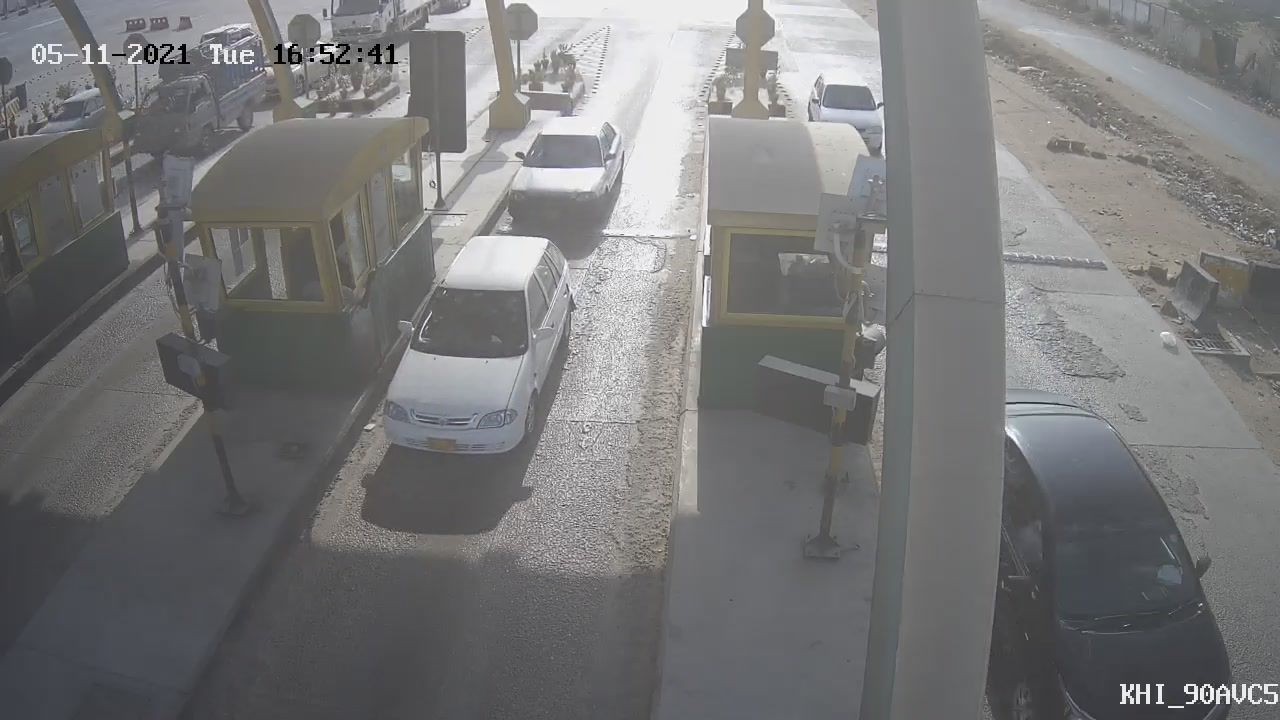F1: (356, 213, 594, 474), (495, 95, 642, 246)
